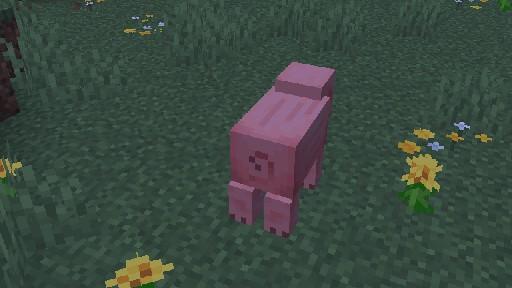pig: (227, 60, 335, 238)
